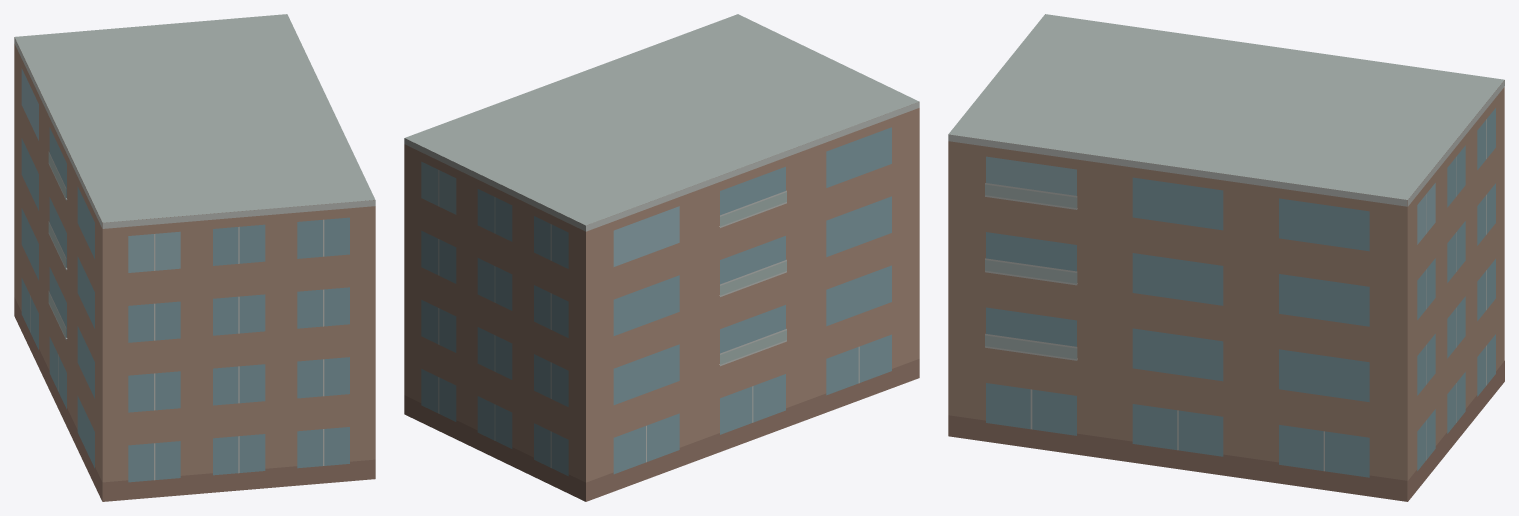
The model's file is survey-upis-32884092.glb.
3 renders of one model, left to right at view 1: azimuth 30°, elevation 25°; view 2: azimuth 150°, elevation 25°; view 3: azimuth 270°, elevation 25°, orthographic. The views are drawn at different scales.
Visible parts, largest first — view 1: survey-upis-32884092.tmp; view 2: survey-upis-32884092.tmp; view 3: survey-upis-32884092.tmp.
Boxes of the visible parts, x1,y1,x2,y2 form: survey-upis-32884092.tmp: (14, 14, 375, 501); survey-upis-32884092.tmp: (404, 14, 919, 501); survey-upis-32884092.tmp: (948, 14, 1504, 501).
Size of the model in its own units: 14.48 by 10.95 by 18.31.
